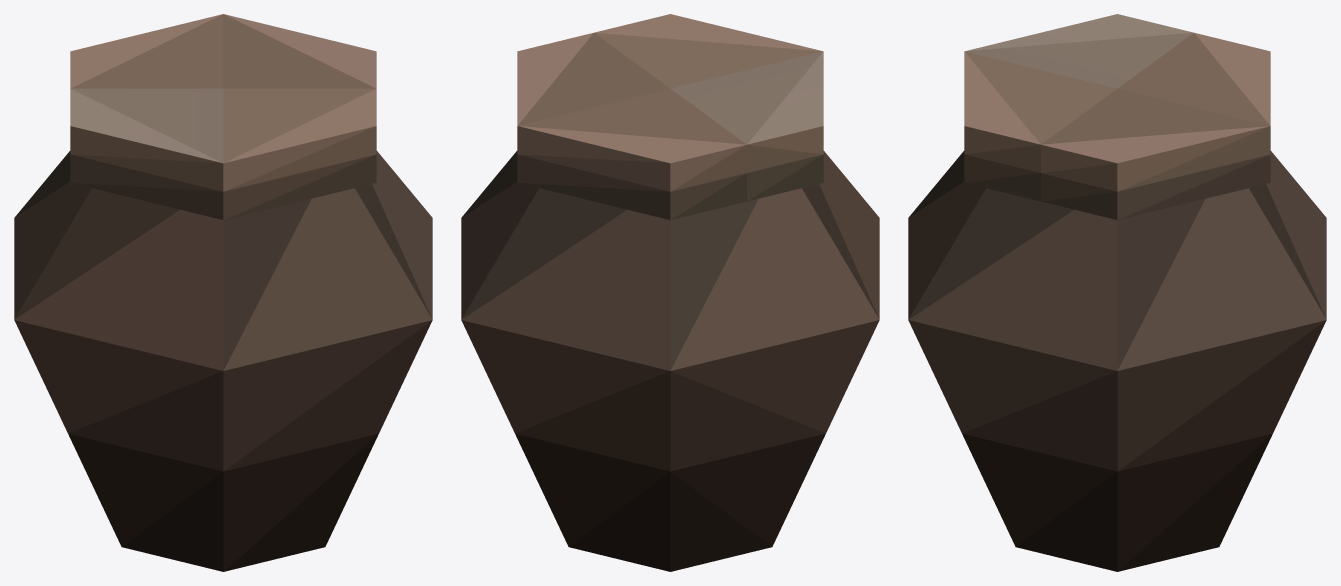
Rendered from prop_container_vase_6.fbx.
3 views of the same model, side by side, from view 1: azimuth 30°, elevation 25°; view 2: azimuth 150°, elevation 25°; view 3: azimuth 270°, elevation 25° (orthographic).
Parts seen in each view (by area): view 1: prop_container_vase_6; view 2: prop_container_vase_6; view 3: prop_container_vase_6.
Part boxes in pixels (x1,y1,x2,y2): prop_container_vase_6: [14, 14, 432, 571]; prop_container_vase_6: [461, 14, 879, 571]; prop_container_vase_6: [908, 14, 1326, 571].
Size of the model in its own units: 0.4337 by 0.4294 by 0.3756.
